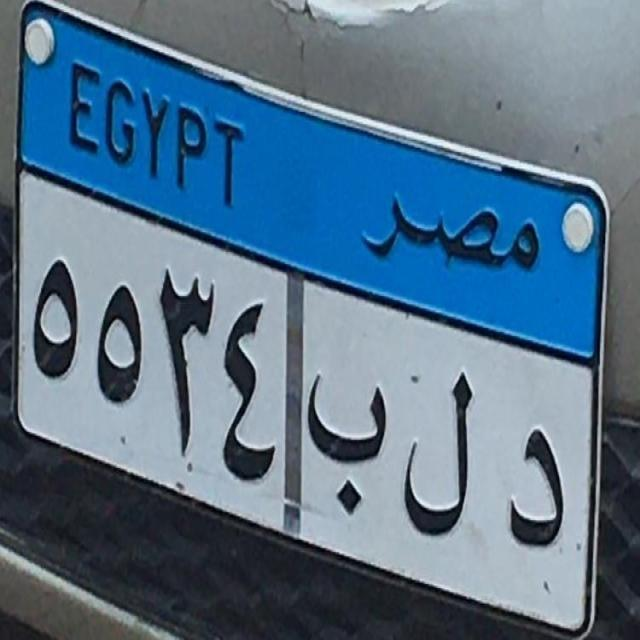3: (145, 247, 229, 467)
4: (198, 274, 289, 498)
5: (12, 248, 94, 400), (80, 270, 158, 422)
Laam: (384, 350, 492, 560)
baa: (293, 334, 410, 540)
daal: (486, 403, 584, 570)
